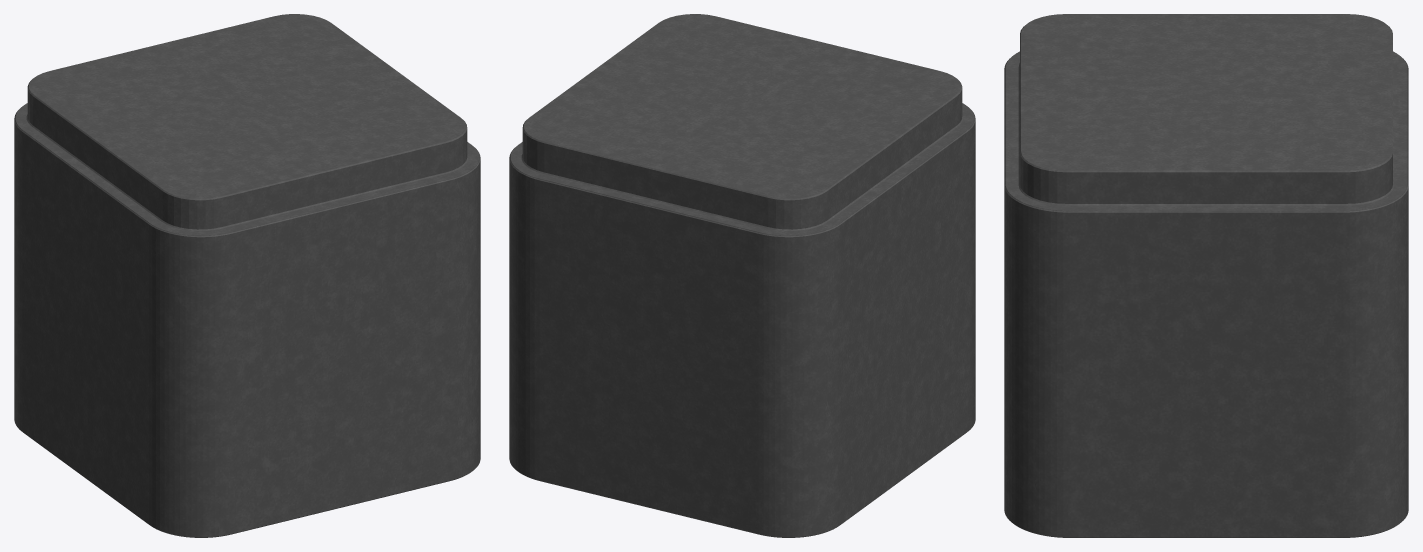
File: ceil-pendant_3,00x3,00x3,00_old-concrete_1_1_high.glb
3 renders of one model, left to right at view 1: azimuth 30°, elevation 25°; view 2: azimuth 150°, elevation 25°; view 3: azimuth 270°, elevation 25°, orthographic. The views are drawn at different scales.
Parts seen in each view (by area): view 1: high_1; view 2: high_1; view 3: high_1.
Boxes of the visible parts, <box> form: high_1: <box>14,14,480,537</box>; high_1: <box>509,14,975,537</box>; high_1: <box>1004,14,1408,537</box>.
Bounding box in the file's own units: 3.25 × 3.2 × 3.25.
Materials: 1 (1 with a texture image).
